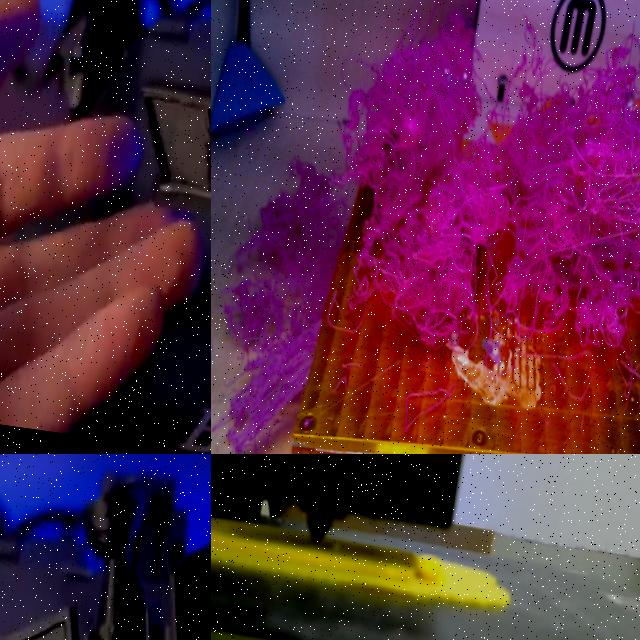spaghetti: (302, 4, 640, 413), (211, 152, 350, 454)
